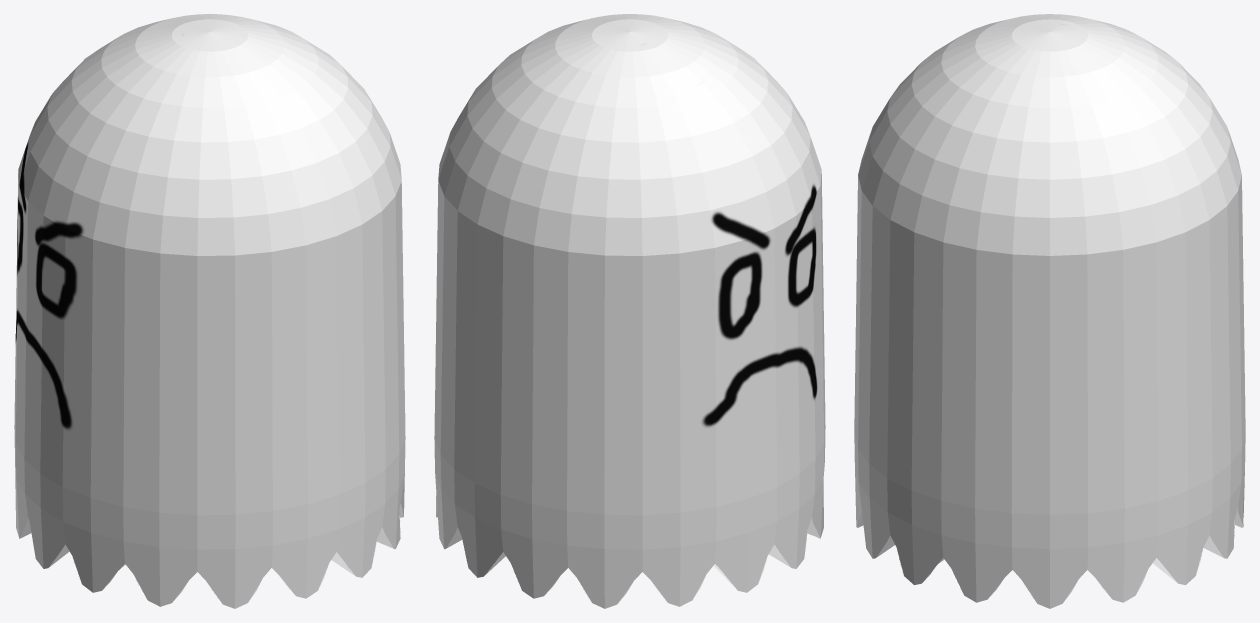
Rendered from ghost.glb.
3 renders of one model, left to right at view 1: azimuth 30°, elevation 25°; view 2: azimuth 150°, elevation 25°; view 3: azimuth 270°, elevation 25°, orthographic.
Parts seen in each view (by area): view 1: Sphere; view 2: Sphere; view 3: Sphere.
Part boxes in pixels (<box>): Sphere: <box>14,14,405,608</box>; Sphere: <box>434,14,825,608</box>; Sphere: <box>854,14,1245,608</box>.
Bounding box in the file's own units: 2 × 2.8 × 2.
1 material, 1 textured.
